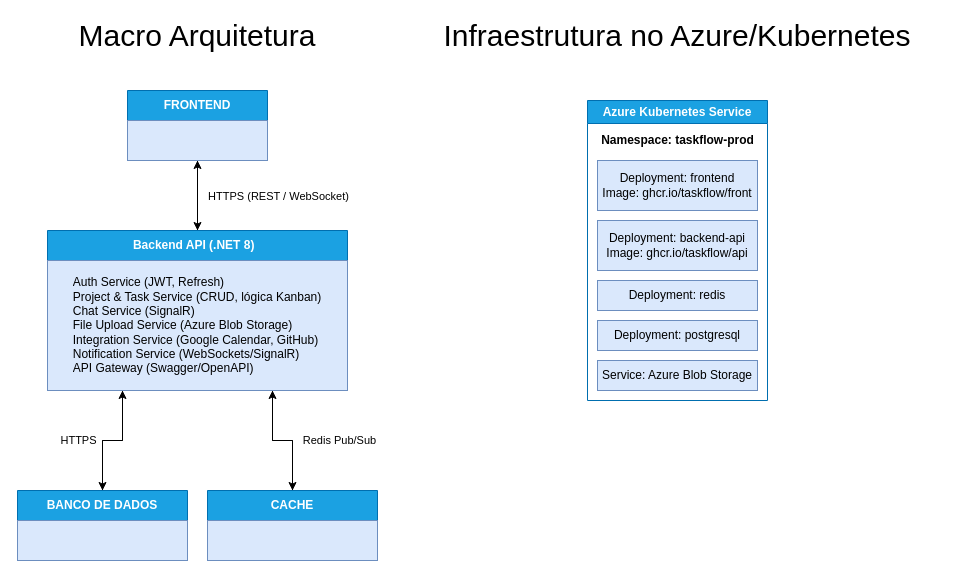
The diagram is 965 pixels wide and 578 high, and some of its shapes have lost their labels. The centre of each missing label's shape, as x and y in pixels:
PostgreSQL DB (EF Core): (x=102, y=540)
React + TS Tailwind CSS: (x=197, y=140)
Redis Cache + Message BUS: (x=292, y=540)
